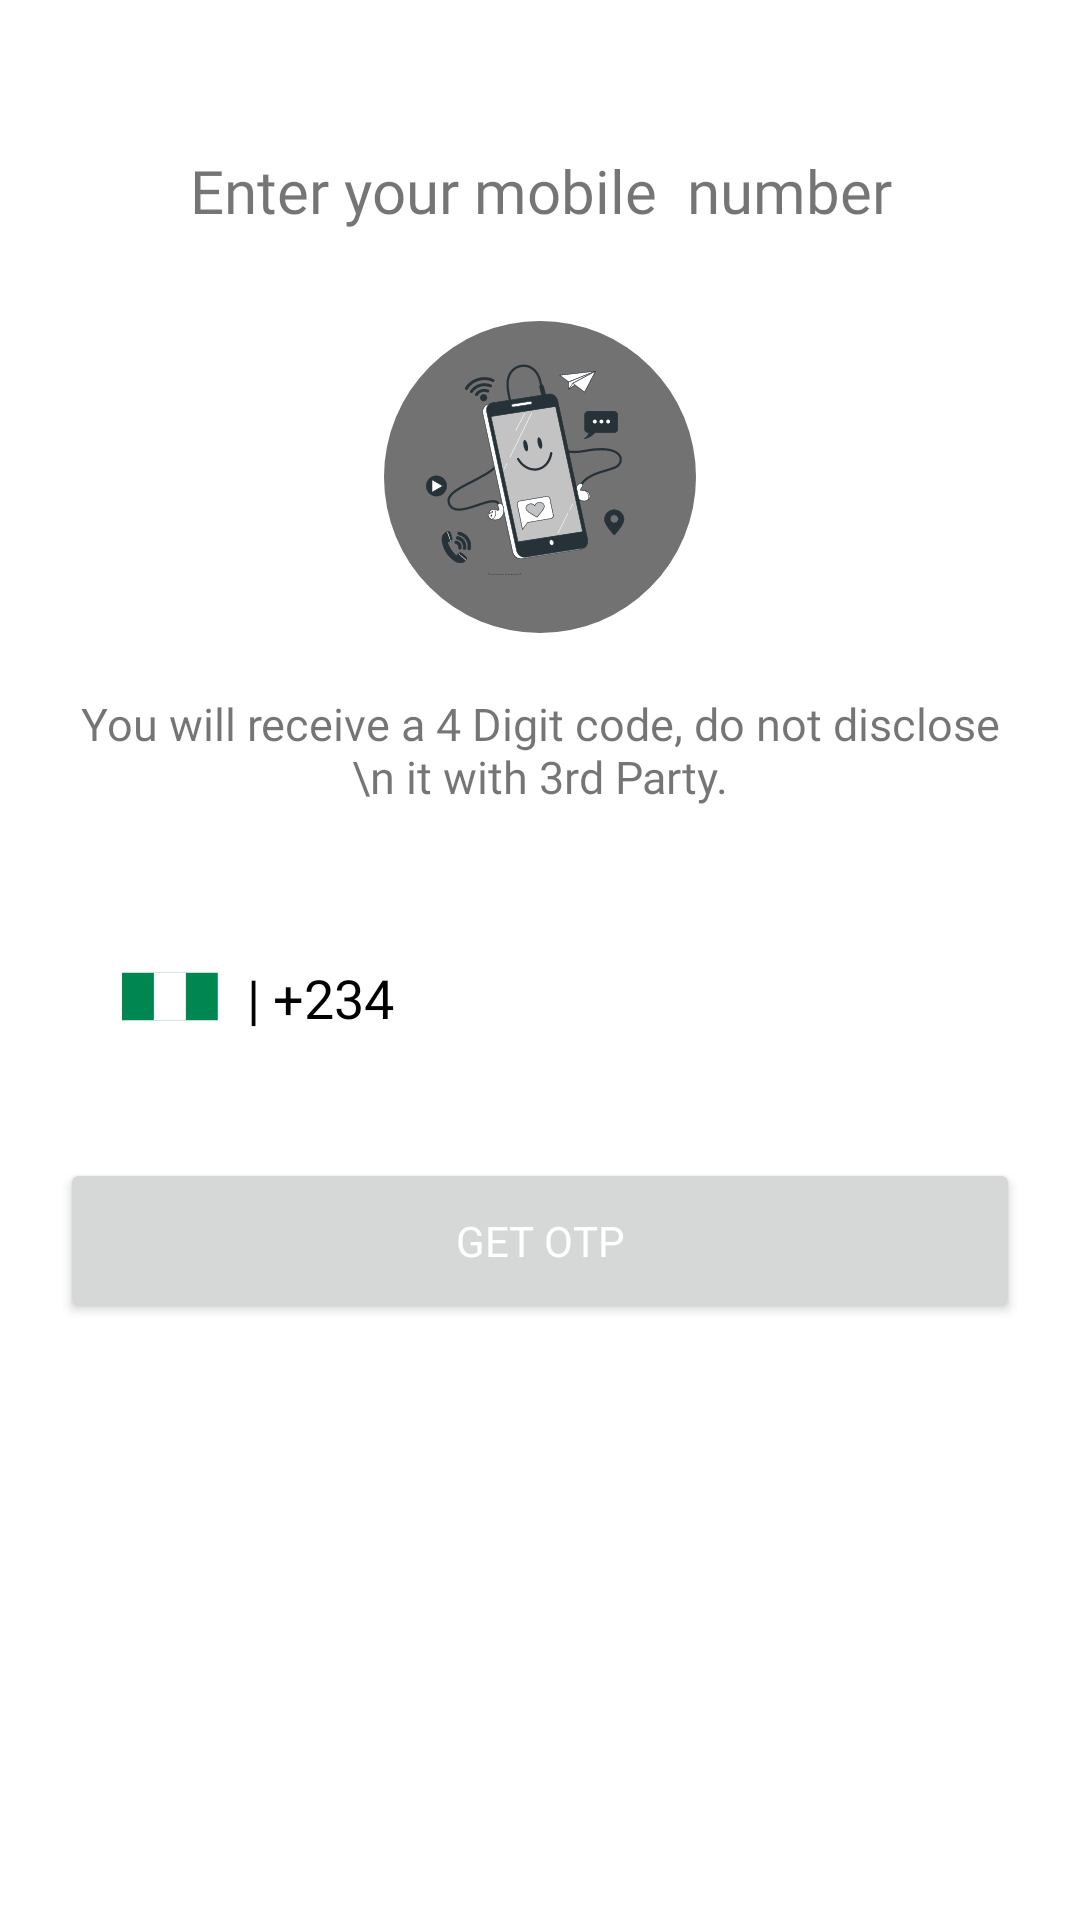

Where icons sit on this 1080 x 1920 app screen, as (x1, y1, x2, y2):
nigeria: (122, 972, 218, 1021)
phonee: (384, 321, 696, 633)
